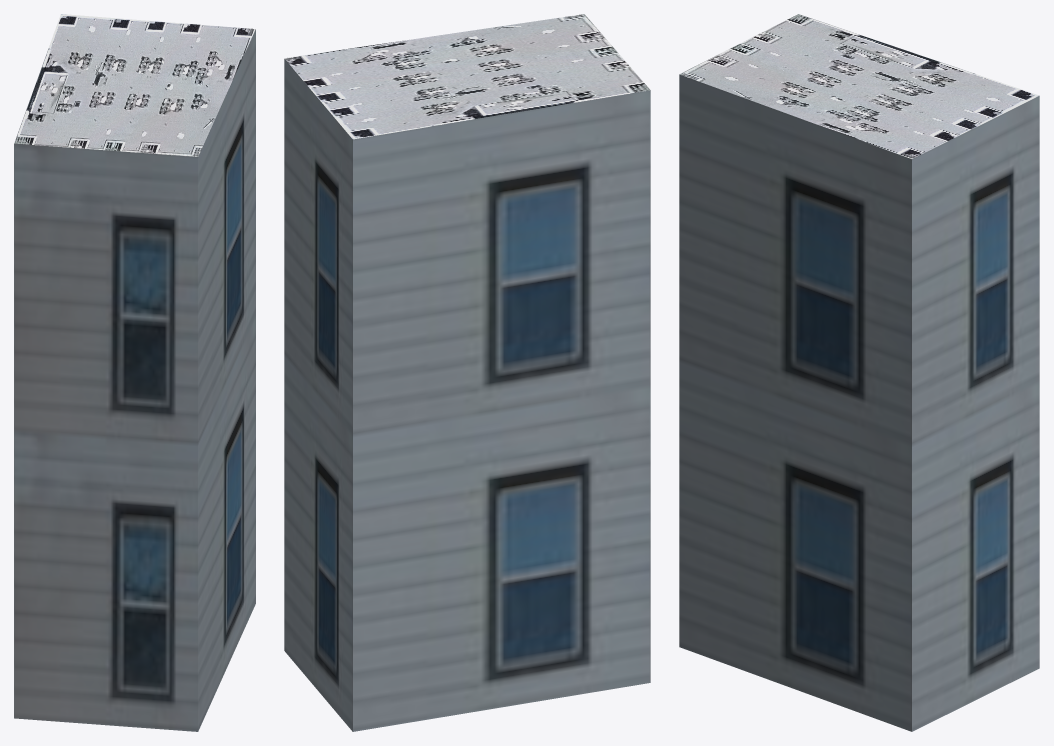
The model's file is ResTex__3633.fbx.
3 views of the same model, side by side, from view 1: azimuth 30°, elevation 25°; view 2: azimuth 150°, elevation 25°; view 3: azimuth 270°, elevation 25° (orthographic). The views are drawn at different scales.
Parts seen in each view (by area): view 1: CityEngineMaterial_18_m, CityEngineMaterial_8_m; view 2: CityEngineMaterial_18_m, CityEngineMaterial_8_m; view 3: CityEngineMaterial_18_m, CityEngineMaterial_8_m.
Boxes of the visible parts, x1,y1,x2,y2 form: CityEngineMaterial_18_m: (14, 29, 255, 731); CityEngineMaterial_8_m: (14, 14, 255, 156); CityEngineMaterial_18_m: (284, 59, 650, 731); CityEngineMaterial_8_m: (284, 14, 650, 139); CityEngineMaterial_18_m: (679, 74, 1039, 731); CityEngineMaterial_8_m: (679, 14, 1039, 158).
Size of the model in its own units: 3.26 by 6 by 3.42.
2 materials, 2 textured.
